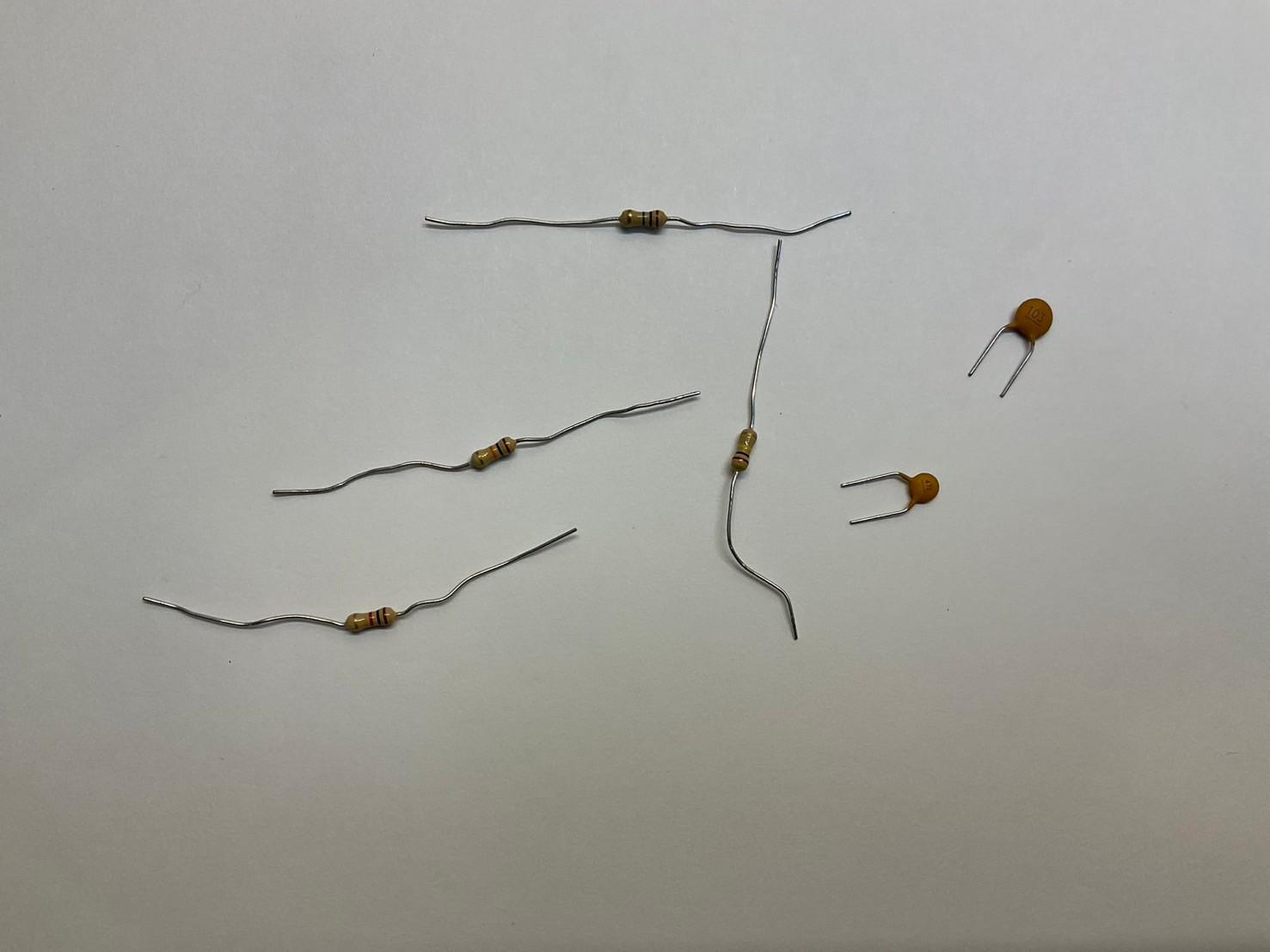resistor: (470, 435, 518, 469), (346, 608, 398, 636), (729, 426, 758, 472), (618, 207, 668, 231)
